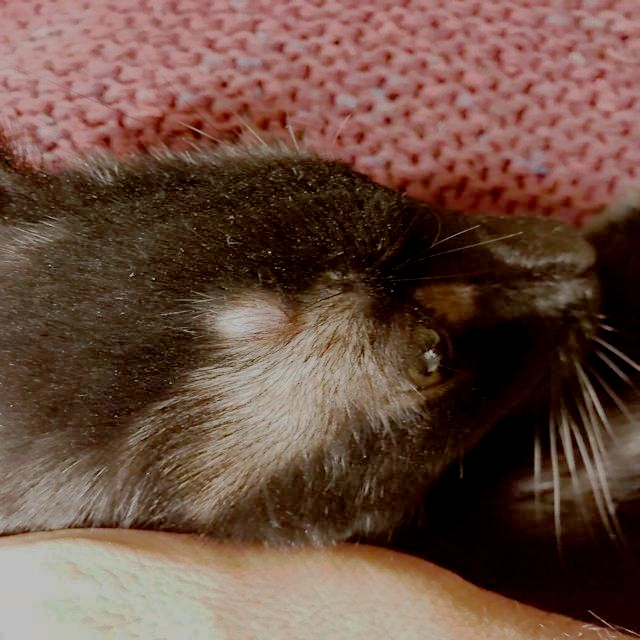lump_and_bump: (218, 297, 282, 349)
